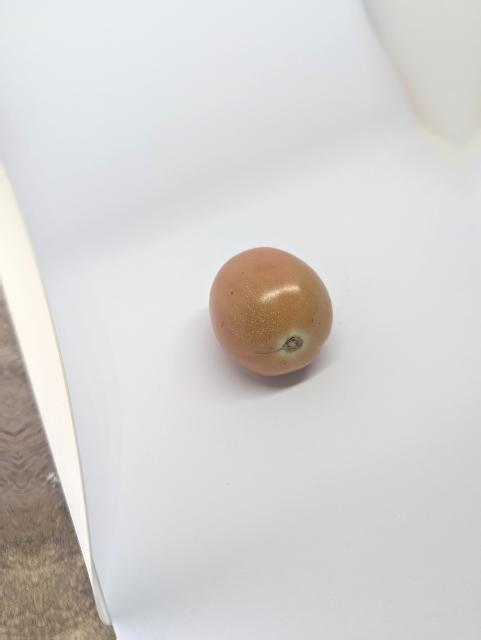turning: (199, 237, 342, 387)
